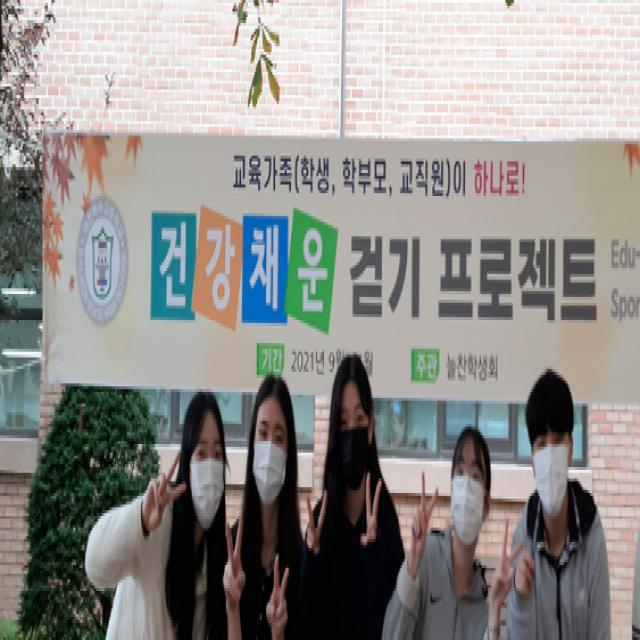logo: (75, 197, 132, 331)
